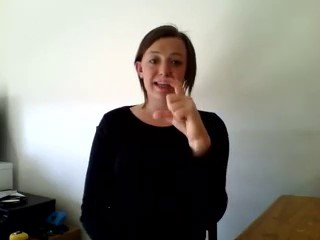C: (150, 71, 205, 142)
